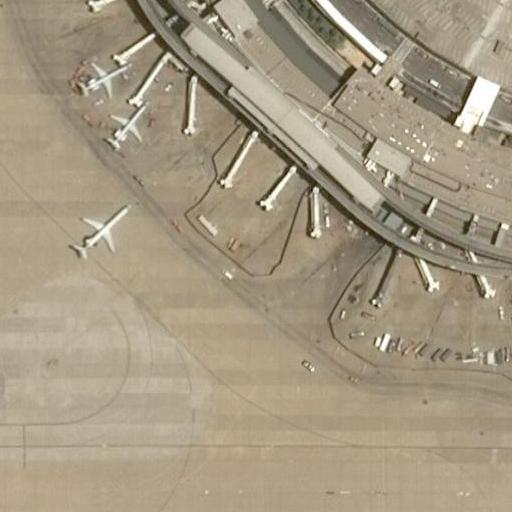Aircraft: (66, 193, 135, 259), (66, 47, 133, 101), (97, 93, 155, 153)
